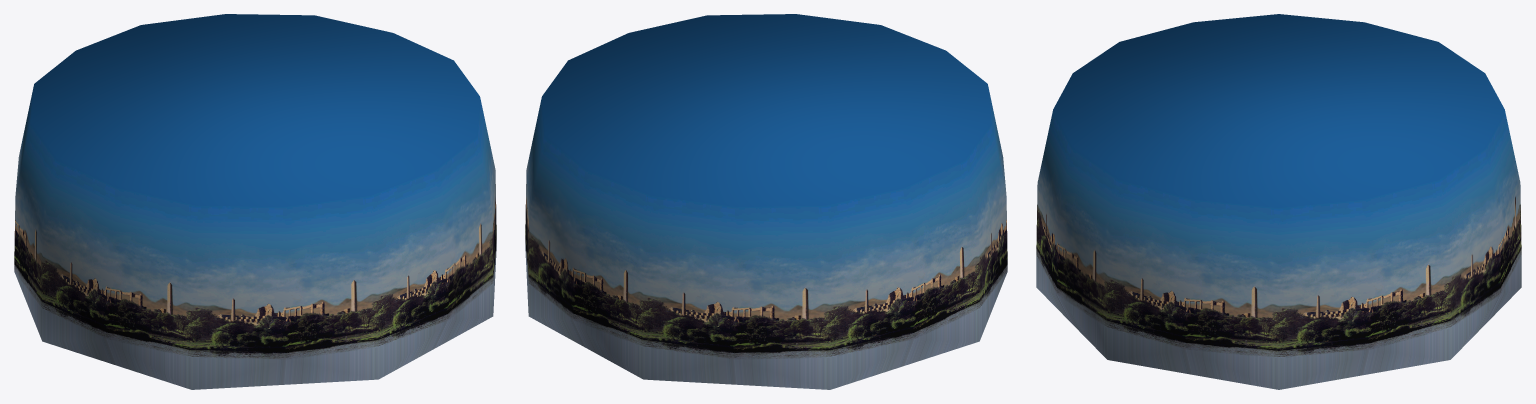
File: Skydrum.obj
The picture shows the model from 3 angles, left to right: view 1: azimuth 30°, elevation 25°; view 2: azimuth 150°, elevation 25°; view 3: azimuth 270°, elevation 25°; orthographic projection.
Bounding box in the file's own units: 7747 × 3134 × 7747.
1 material, 1 textured.
